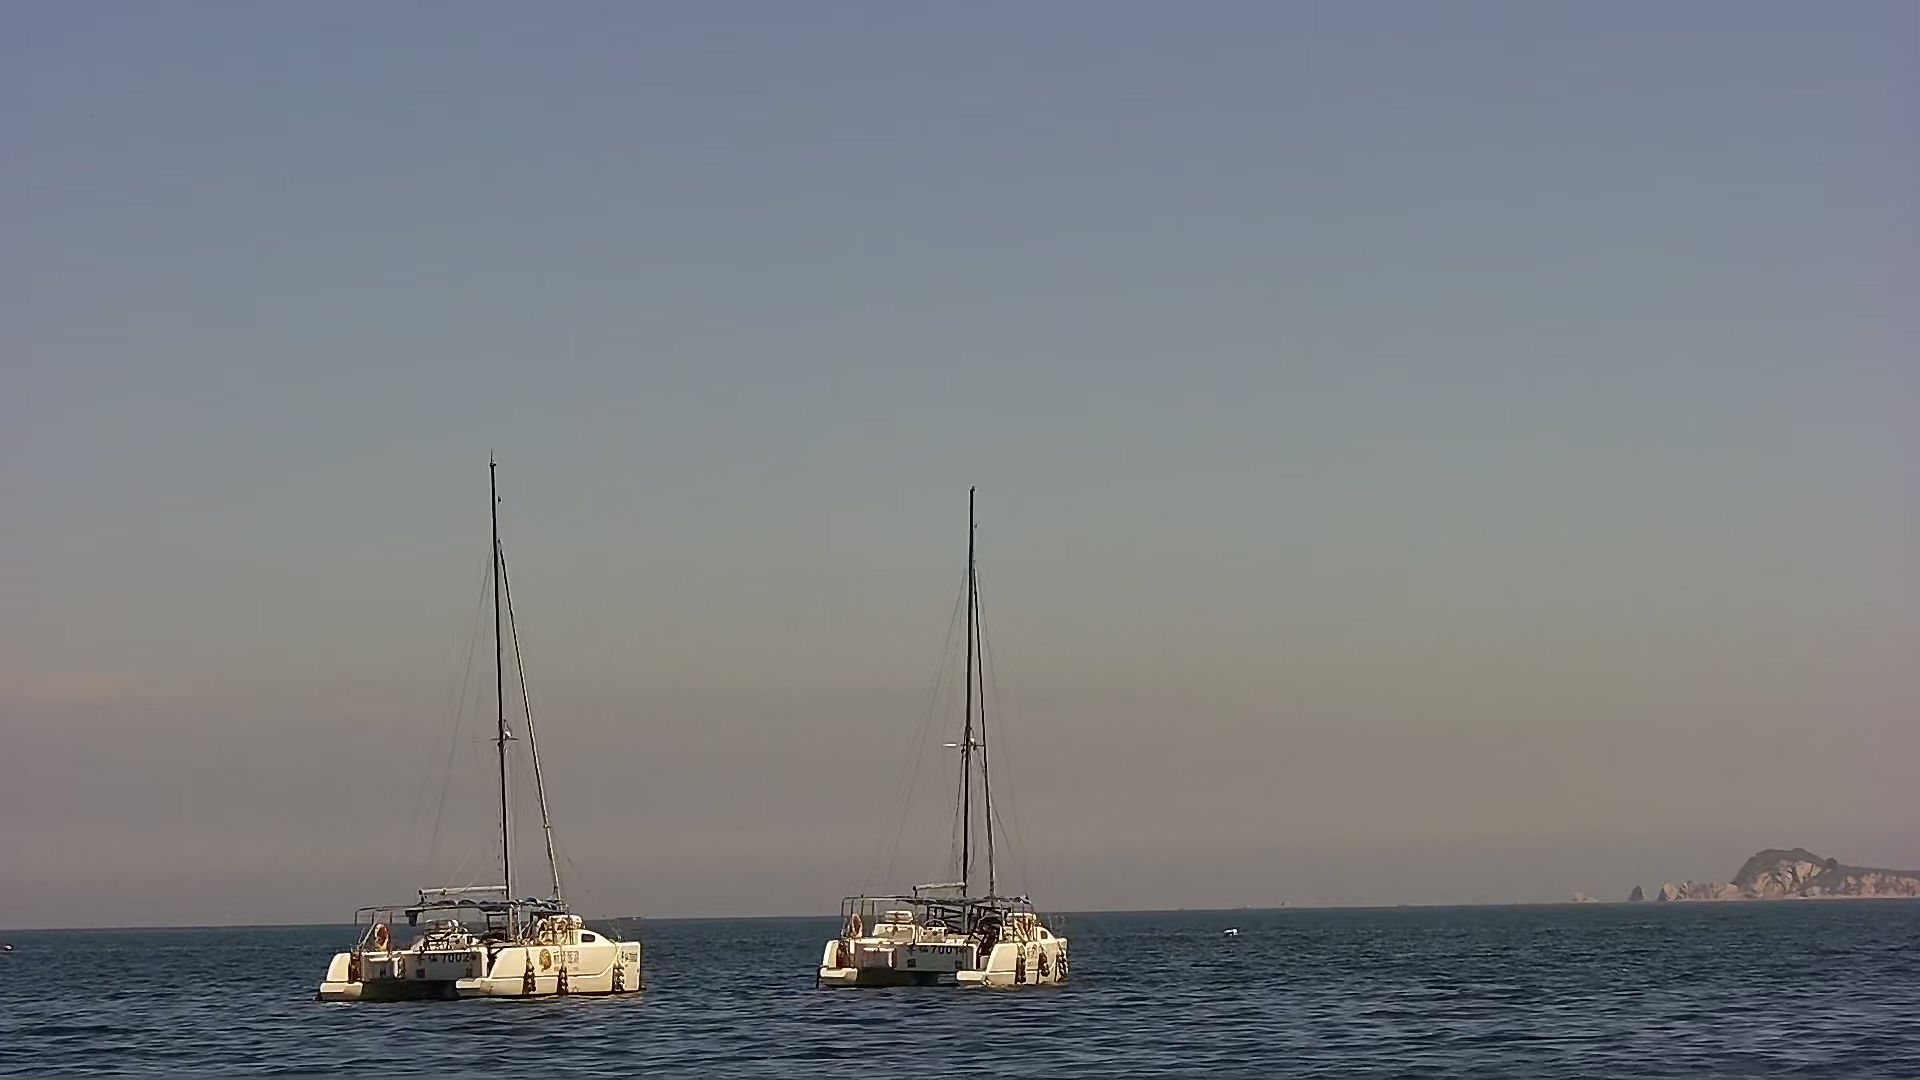boat: (302, 446, 655, 1004), (815, 473, 1089, 1000)
rock: (1604, 844, 1920, 901)
rubbish: (1215, 918, 1247, 943)
